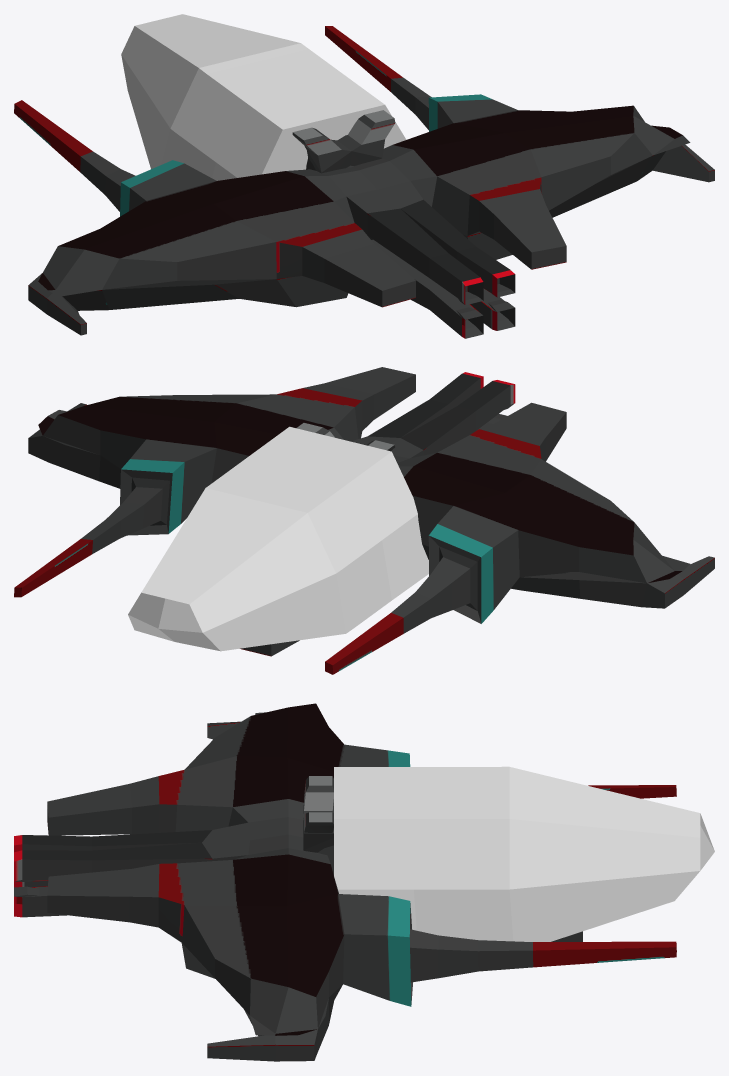
The model's file is EnemyShipV2.fbx.
3 views of the same model, one above another, from view 1: azimuth 30°, elevation 25°; view 2: azimuth 150°, elevation 25°; view 3: azimuth 270°, elevation 25° (orthographic). The views are drawn at different scales.
Parts seen in each view (by area): view 1: Body, Cab; view 2: Body, Cab; view 3: Body, Cab.
Part boxes in pixels (bbox=[...]): Body: bbox=[14, 26, 714, 338]; Cab: bbox=[121, 14, 406, 180]; Body: bbox=[14, 367, 714, 674]; Cab: bbox=[128, 426, 428, 651]; Body: bbox=[14, 703, 676, 1061]; Cab: bbox=[334, 766, 714, 941].
Bounding box in the file's own units: 1707 × 1557 × 317.
1 material, 1 textured.
